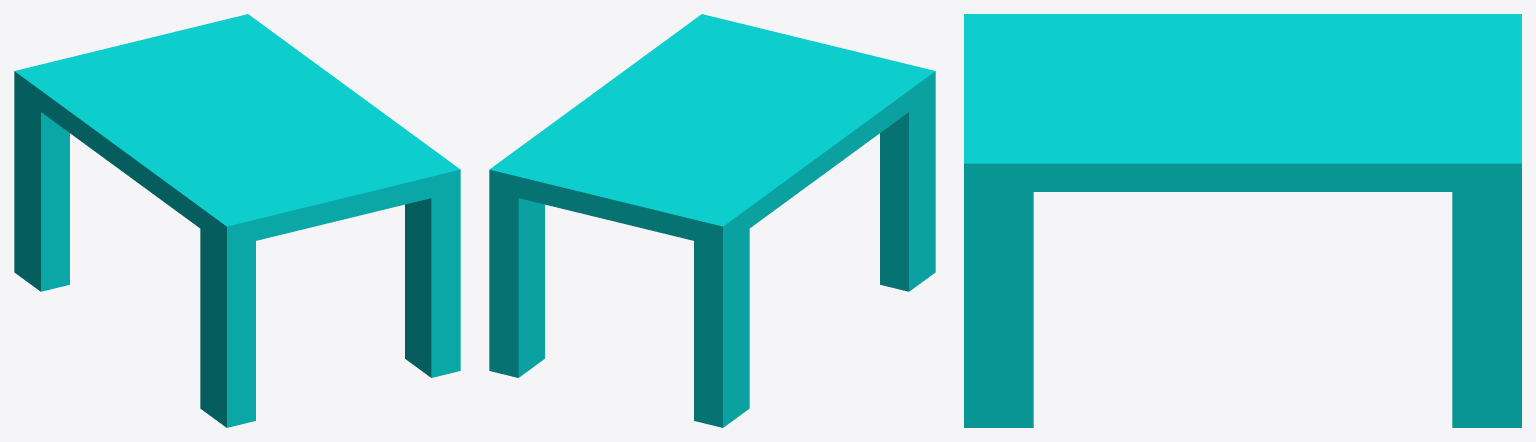
The model's file is giant2interactable1.fbx.
3 views of the same model, side by side, from view 1: azimuth 30°, elevation 25°; view 2: azimuth 150°, elevation 25°; view 3: azimuth 270°, elevation 25° (orthographic). The views are drawn at different scales.
Parts seen in each view (by area): view 1: giant2interactable1; view 2: giant2interactable1; view 3: giant2interactable1.
Boxes of the visible parts, bbox=[...] form: giant2interactable1: bbox=[14, 14, 460, 427]; giant2interactable1: bbox=[489, 14, 935, 427]; giant2interactable1: bbox=[964, 14, 1521, 427].
Bounding box in the file's own units: 2.86 × 2.36 × 4.51.
